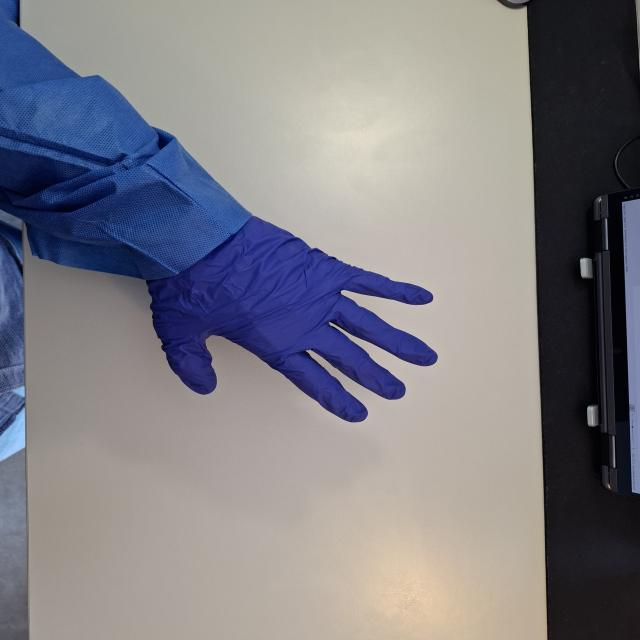glove_on: (142, 213, 440, 424)
